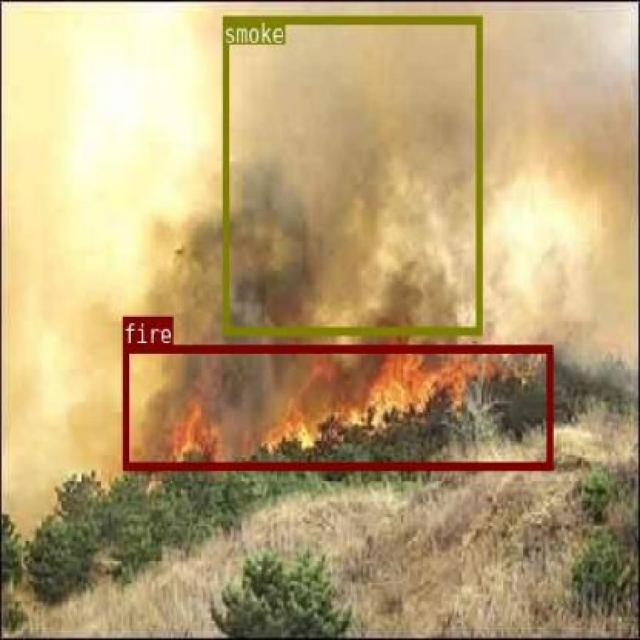fire: (122, 344, 550, 470)
smoke: (222, 15, 482, 334)
